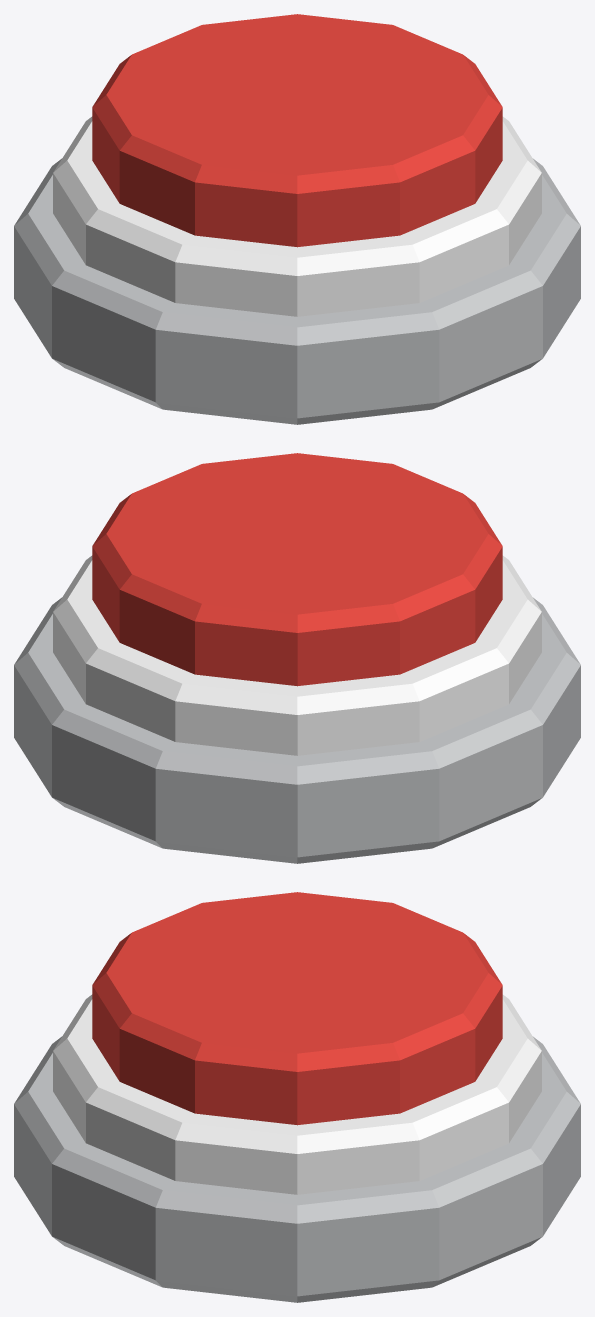
The model's file is push_button.glb.
3 views of the same model, one above another, from view 1: azimuth 30°, elevation 25°; view 2: azimuth 150°, elevation 25°; view 3: azimuth 270°, elevation 25° (orthographic).
Visible parts, largest first — view 1: push_button; view 2: push_button; view 3: push_button.
Part boxes in pixels (x1,y1,x2,y2): push_button: (14,14,580,424); push_button: (14,453,580,863); push_button: (14,892,580,1302).
Bounding box in the file's own units: 0.29 × 0.122 × 0.29.
